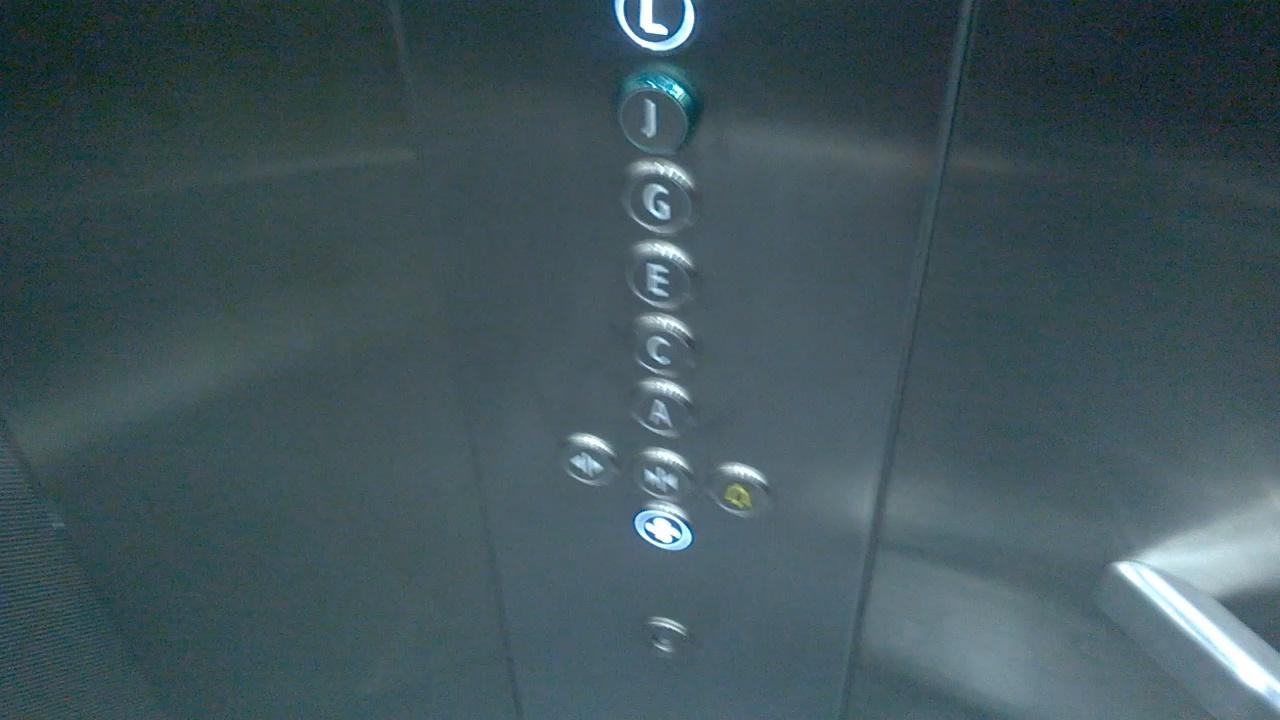A: (623, 373, 705, 438)
C: (624, 309, 704, 378)
E: (623, 236, 701, 313)
G: (618, 159, 701, 235)
J: (613, 68, 701, 159)
alarm: (708, 464, 773, 521)
close: (633, 445, 692, 505)
fan: (632, 502, 696, 556)
open: (563, 431, 617, 495)
